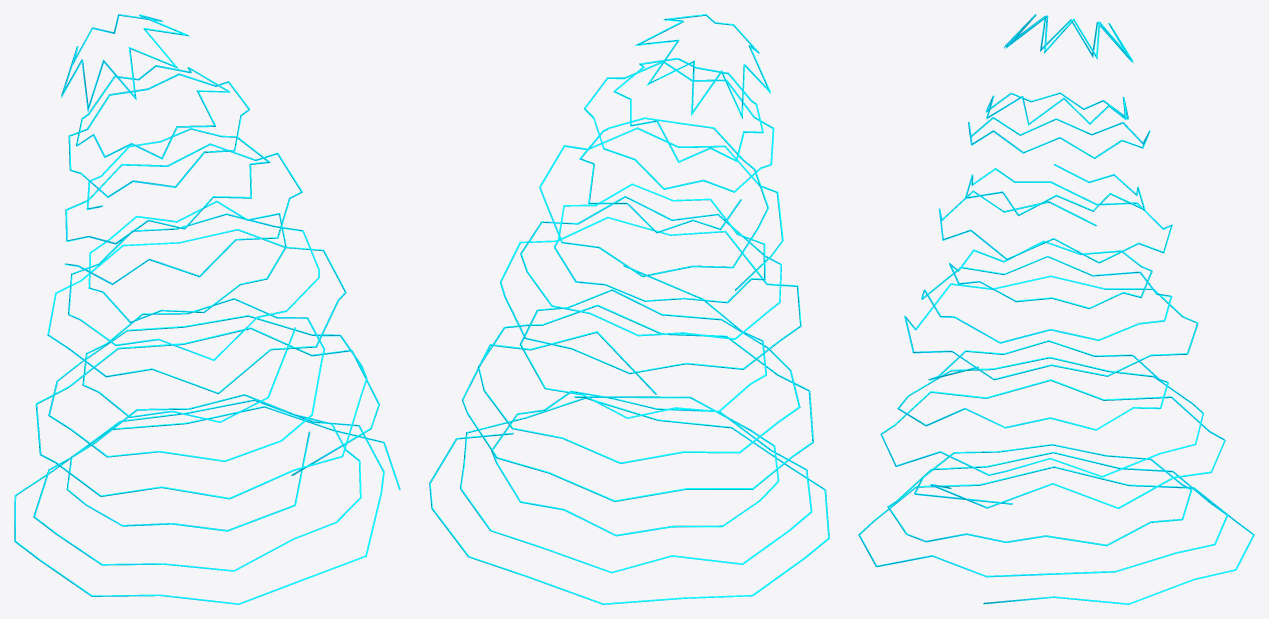
Rendered from lights.fbx.
3 views of the same model, side by side, from view 1: azimuth 30°, elevation 25°; view 2: azimuth 150°, elevation 25°; view 3: azimuth 270°, elevation 25° (orthographic). The views are drawn at different scales.
Visible parts, largest first — view 1: Layer 01; view 2: Layer 01; view 3: Layer 01.
Boxes of the visible parts, box(x1,y1,x2,y2) form: Layer 01: box(14, 14, 400, 604); Layer 01: box(429, 14, 829, 604); Layer 01: box(858, 14, 1254, 604).
Size of the model in its own units: 19701 by 28617 by 20027.
